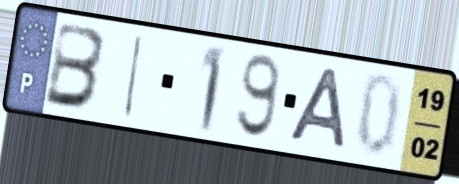0: (354, 72, 405, 160)
1: (198, 43, 229, 136)
9: (234, 50, 284, 143)
A: (285, 64, 348, 154)
B: (41, 19, 110, 113)
I: (120, 31, 147, 121)
